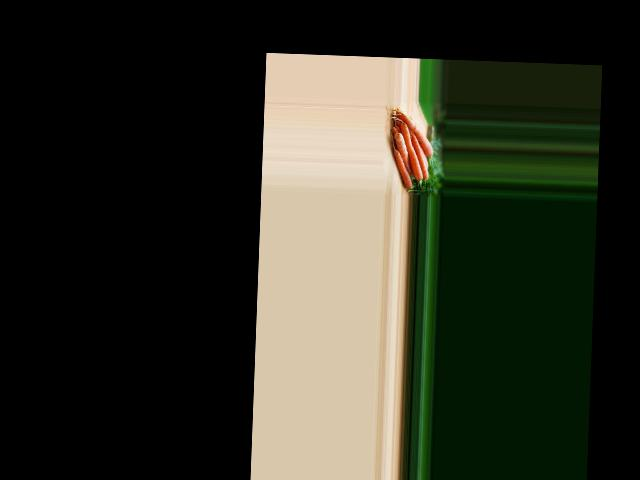carrot: (385, 145, 412, 191)
